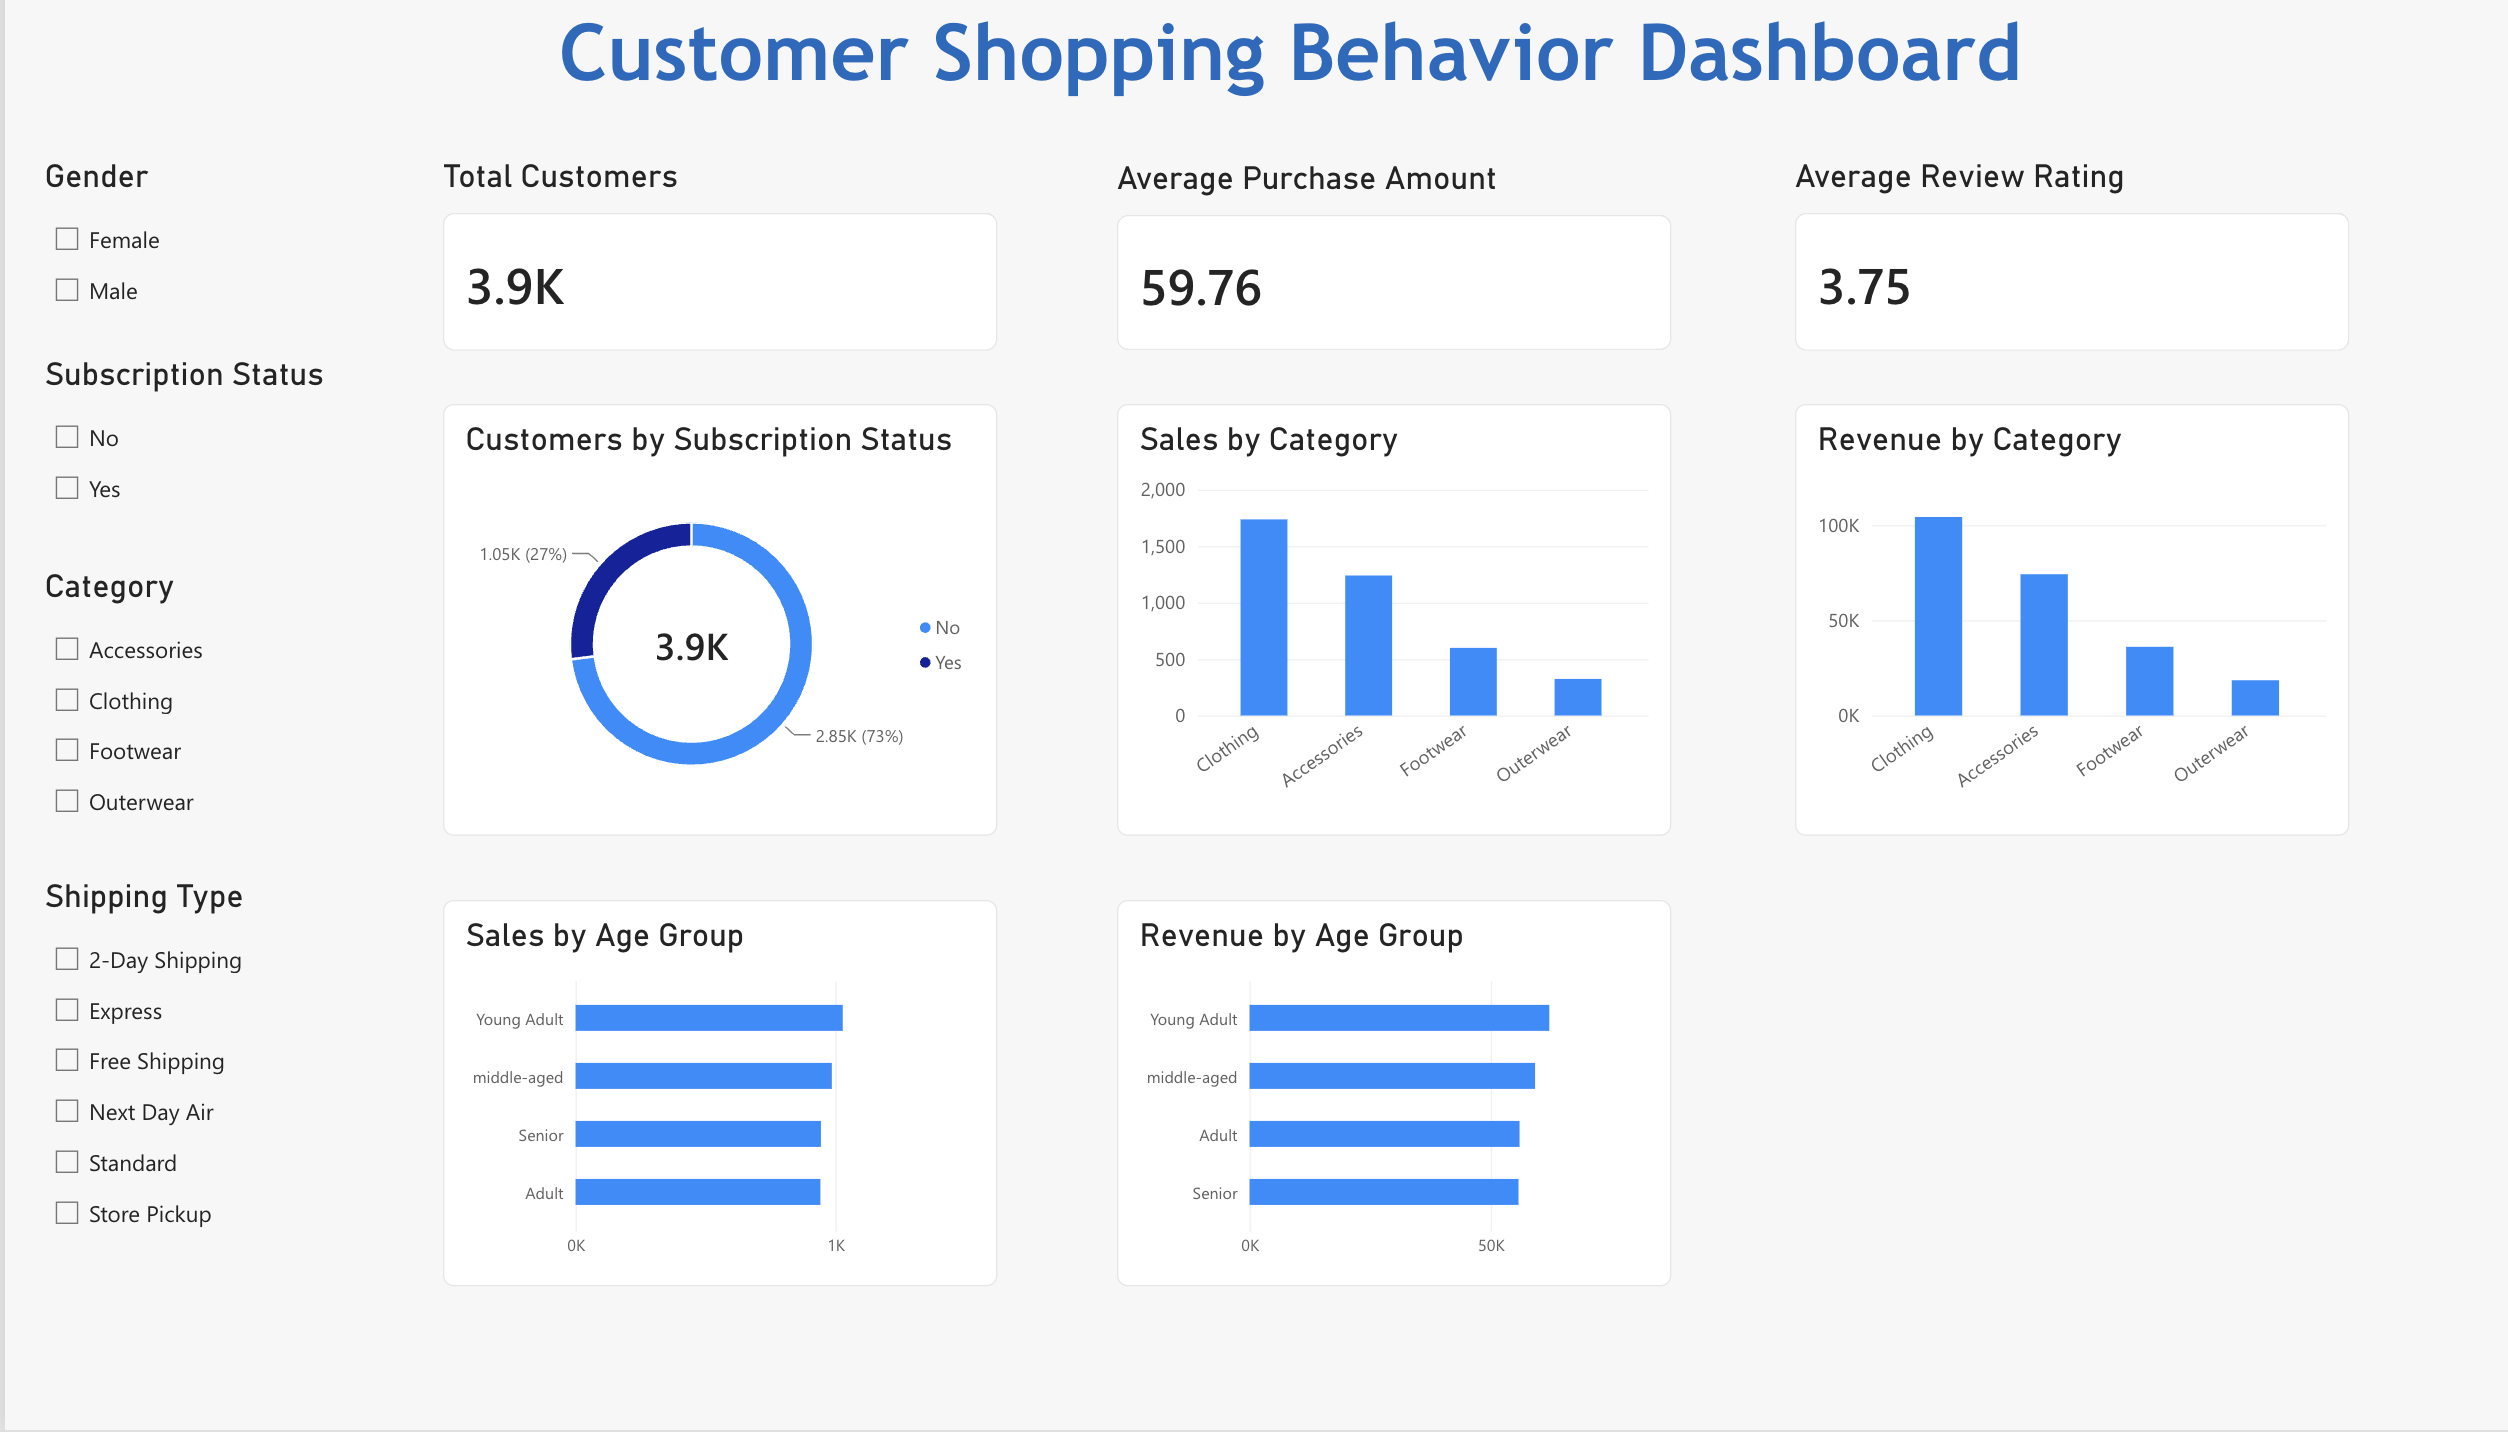

What the dashboard file says about the page in this screenshot:
{"tool":"powerbi","page":{"name":"Page 1","canvas":[1920,1080],"ordinal":0},"visuals":[{"type":"cardVisual","title":"Total Customers","fields":{"Data":["Count(customer_behavior_cleaned 1.customer_id)"]},"box":[327.2,132.7,414.2,141.9],"z":0},{"type":"cardVisual","title":"Average Purchase Amount","fields":{"Data":["Avg(customer_behavior_cleaned 1.purchase_amount)"]},"box":[830.7,135,414.2,139.6],"z":1},{"type":"cardVisual","title":"Average Review Rating","fields":{"Data":["Avg(customer_behavior_cleaned 1.review_rating)"]},"box":[1336.4,132.7,414.2,141.9],"z":2},{"type":"donutChart","title":"Customers by Subscription Status","fields":{"Category":["customer_behavior_cleaned 1.subscription_status"],"Y":["CountNonNull(customer_behavior_cleaned 1.customer_id)"]},"box":[327.2,313.5,414.2,322.7],"z":3},{"type":"clusteredColumnChart","title":"Revenue by Category","fields":{"Category":["customer_behavior_cleaned 1.category"],"Y":["Sum(customer_behavior_cleaned 1.purchase_amount)"]},"box":[1336.4,313.5,414.2,322.7],"z":4},{"type":"clusteredColumnChart","title":"Sales by Category","fields":{"Category":["customer_behavior_cleaned 1.category"],"Y":["CountNonNull(customer_behavior_cleaned 1.customer_id)"]},"box":[830.7,313.5,414.2,322.7],"z":5},{"type":"clusteredBarChart","title":"Revenue by Age Group","fields":{"Category":["customer_behavior_cleaned 1.age_group"],"Y":["Sum(customer_behavior_cleaned 1.purchase_amount)"]},"box":[830.7,684.2,414.2,288.3],"z":6},{"type":"clusteredBarChart","title":"Sales by Age Group","fields":{"Category":["customer_behavior_cleaned 1.age_group"],"Y":["CountNonNull(customer_behavior_cleaned 1.customer_id)"]},"box":[327.2,684.2,414.2,288.3],"z":7},{"type":"slicer","title":"Subscription Status","fields":{"Values":["customer_behavior_cleaned 1.subscription_status"]},"box":[29.7,281.5,247.2,157.9],"z":8},{"type":"slicer","title":"Gender","fields":{"Values":["customer_behavior_cleaned 1.gender"]},"box":[29.7,132.7,242.6,157.9],"z":9},{"type":"slicer","title":"Category","fields":{"Values":["customer_behavior_cleaned 1.category"]},"box":[29.7,439.4,414.2,203.7],"z":10},{"type":"slicer","title":"Shipping Type","fields":{"Values":["customer_behavior_cleaned 1.shipping_type"]},"box":[29.7,670.5,414.2,302.1],"z":11},{"type":"textbox","box":[0,16,1920,105.3],"z":12}]}

Visuals, with their boxes in screenshot pixels (x1, y1, x2, y2), scaled from the page's 1920x1080 canvas onto the 2508x1432 screenshot:
"Total Customers" cardVisual: (427, 176, 968, 364)
"Average Purchase Amount" cardVisual: (1085, 179, 1626, 364)
"Average Review Rating" cardVisual: (1746, 176, 2287, 364)
"Customers by Subscription Status" donutChart: (427, 416, 968, 844)
"Revenue by Category" clusteredColumnChart: (1746, 416, 2287, 844)
"Sales by Category" clusteredColumnChart: (1085, 416, 1626, 844)
"Revenue by Age Group" clusteredBarChart: (1085, 907, 1626, 1289)
"Sales by Age Group" clusteredBarChart: (427, 907, 968, 1289)
"Subscription Status" slicer: (39, 373, 362, 583)
"Gender" slicer: (39, 176, 356, 385)
"Category" slicer: (39, 583, 580, 853)
"Shipping Type" slicer: (39, 889, 580, 1290)
textbox: (0, 21, 2507, 161)
